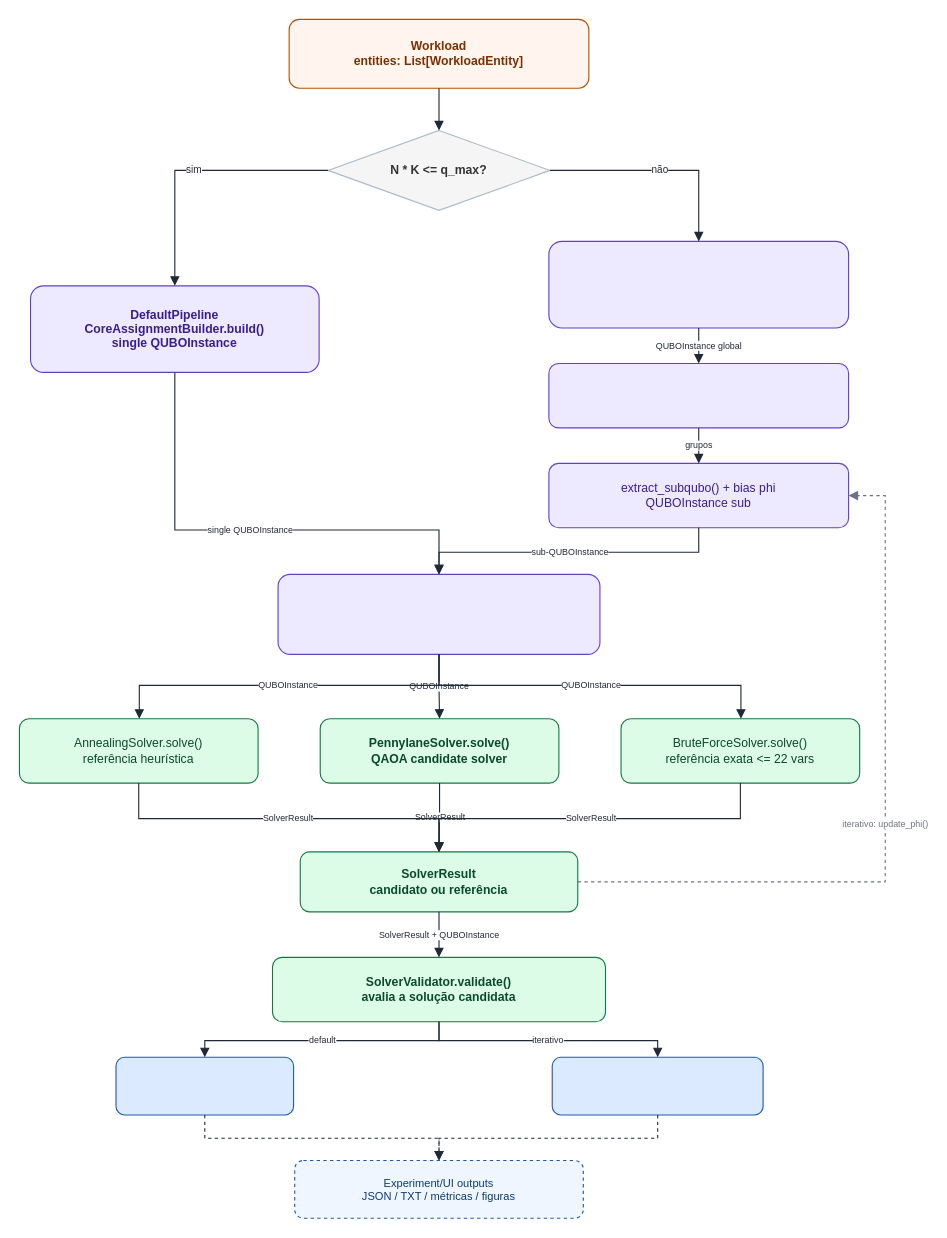
Some shapes in this 947 by 1238 pixel diagram are drawn without their labels. The centre of each missing label's shape, as x and y in pixels:
"IterativePipeline CoreAssignmentBuilder.build() QUBOInstance global" belongs at point 698,284.
"IterativeSchedulingOutput (IterativePipeline)" belongs at point 657,1085.
"QUBOInstance entrada comum dos solvers Q + variable_map" belongs at point 438,613.
"SchedulingOutput (DefaultPipeline)" belongs at point 204,1085.
"SubQUBODecomposer.partition() groups: List[List[WorkloadEntity]]" belongs at point 698,395.
